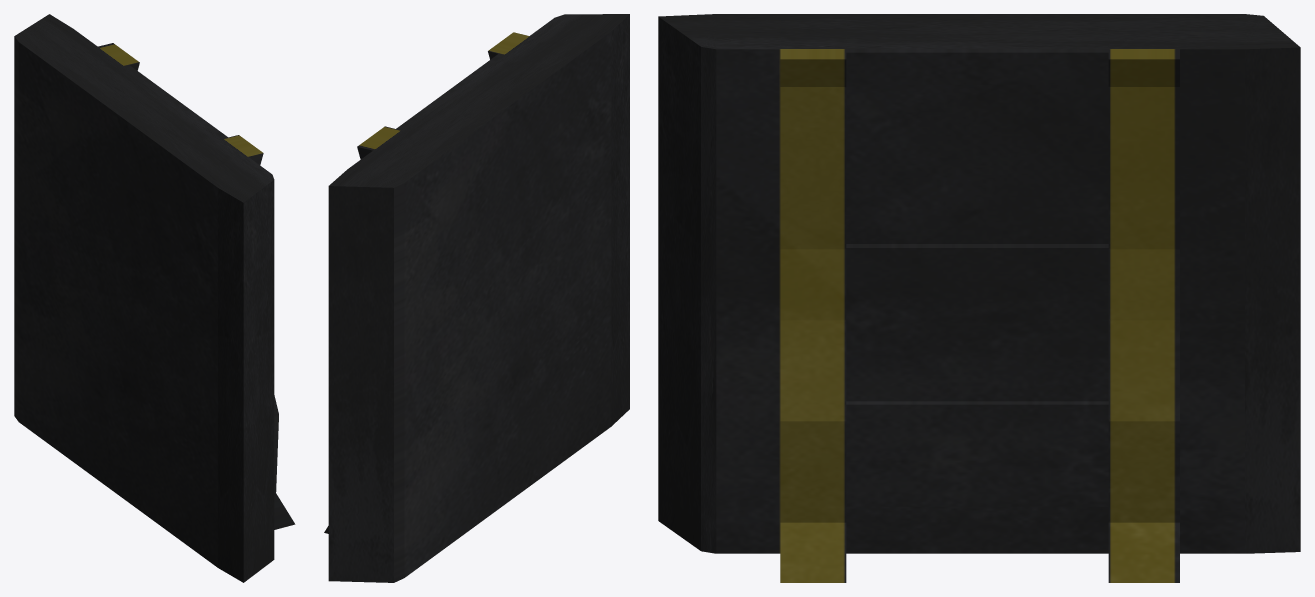
Rendered from wall.obj.
3 views of the same model, side by side, from view 1: azimuth 30°, elevation 25°; view 2: azimuth 150°, elevation 25°; view 3: azimuth 270°, elevation 25° (orthographic). The views are drawn at different scales.
Visible parts, largest first — view 1: Cube.002; view 2: Cube.002; view 3: Cube.002.
Boxes of the visible parts, box(x1,y1,x2,y2) form: Cube.002: box(14, 14, 295, 582); Cube.002: box(324, 14, 629, 582); Cube.002: box(658, 14, 1300, 582).
Bounding box in the file's own units: 4.87 × 17.41 × 20.09.
